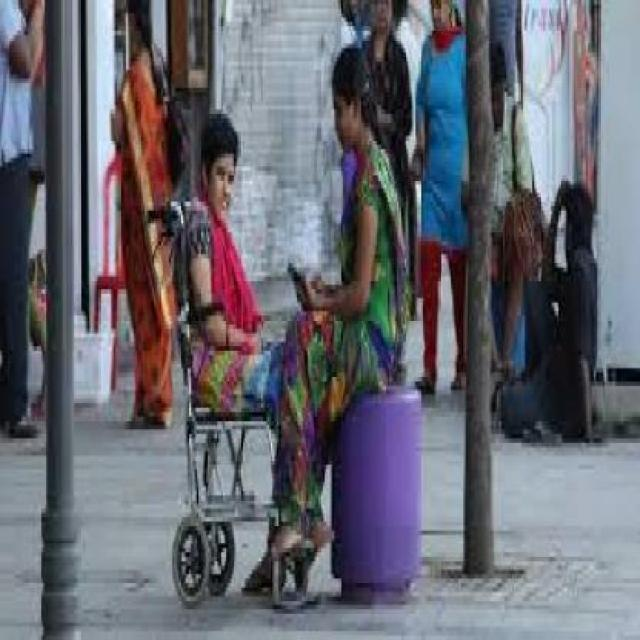sem_oculos: (201, 156, 241, 188), (324, 101, 370, 123)
